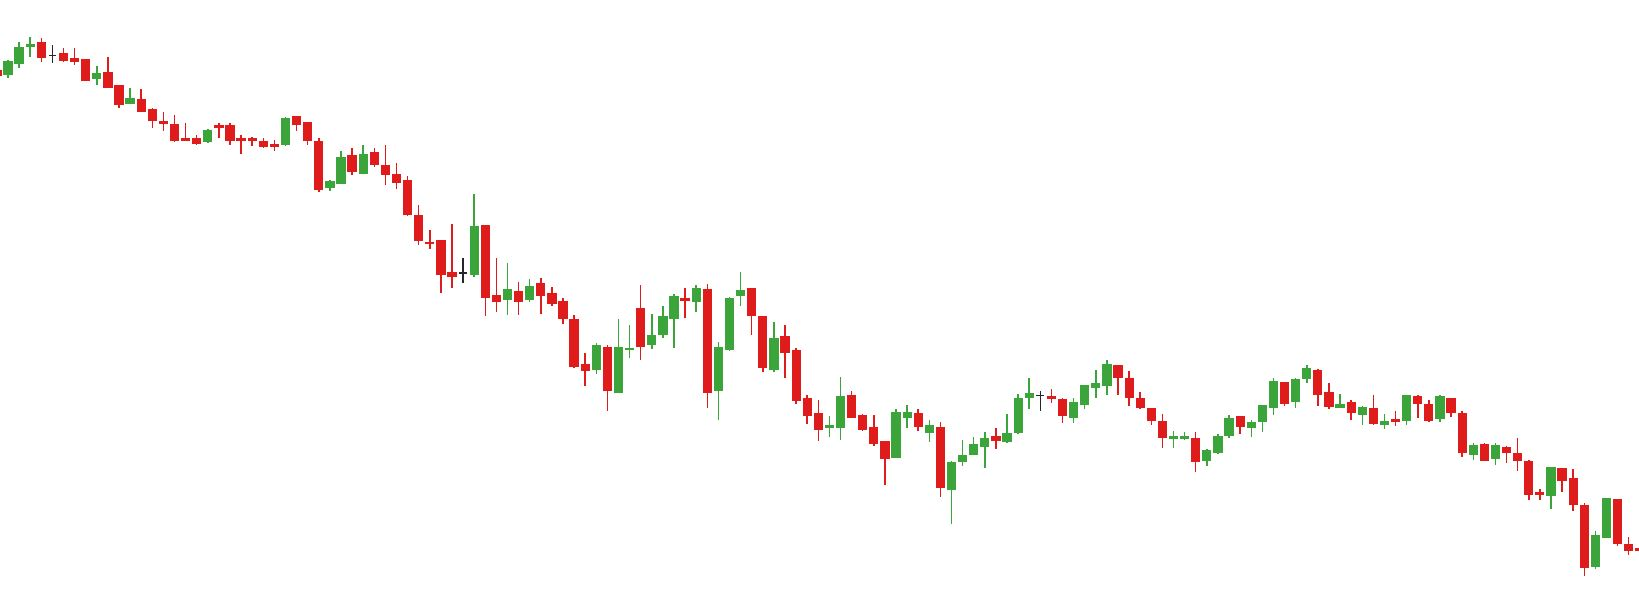buy: (877, 415, 959, 533)
sell: (633, 262, 757, 360)
